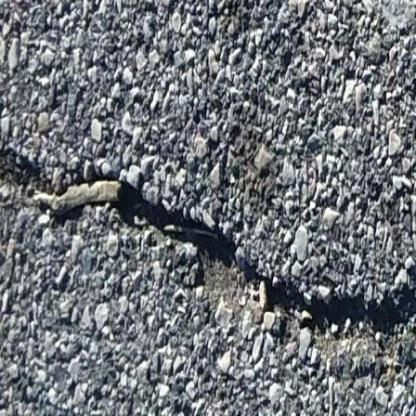Cracks: (1, 132, 416, 368)
